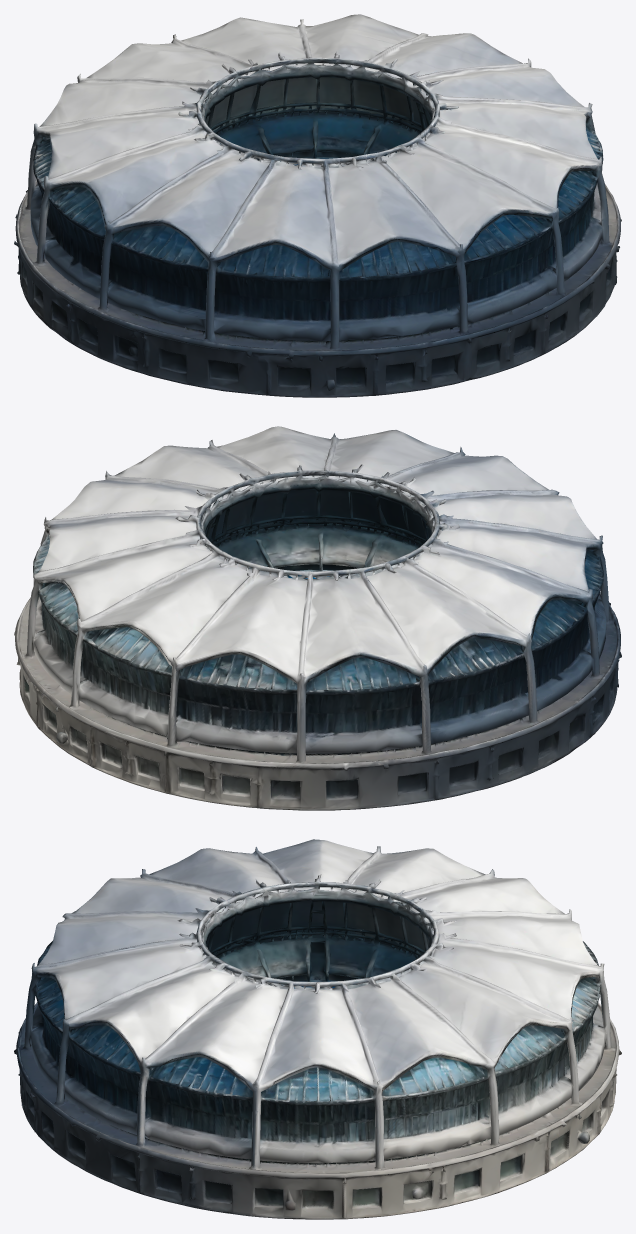
The model's file is mal_qizhong.glb.
3 renders of one model, top to bottom at view 1: azimuth 30°, elevation 25°; view 2: azimuth 150°, elevation 25°; view 3: azimuth 270°, elevation 25°, orthographic.
Parts seen in each view (by area): view 1: tripo_node_b94b32ff-4e5a-438d-bded-5b301727b866; view 2: tripo_node_b94b32ff-4e5a-438d-bded-5b301727b866; view 3: tripo_node_b94b32ff-4e5a-438d-bded-5b301727b866.
Boxes of the visible parts, bbox=[...] form: tripo_node_b94b32ff-4e5a-438d-bded-5b301727b866: bbox=[14, 14, 621, 397]; tripo_node_b94b32ff-4e5a-438d-bded-5b301727b866: bbox=[14, 426, 621, 810]; tripo_node_b94b32ff-4e5a-438d-bded-5b301727b866: bbox=[14, 839, 621, 1219].
Bounding box in the file's own units: 0.9997 × 0.2979 × 1.
1 material, 1 textured.
